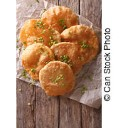poori: (62, 25, 99, 64), (21, 19, 62, 53), (40, 61, 75, 95), (22, 44, 55, 80), (52, 41, 81, 74), (42, 7, 79, 29)
